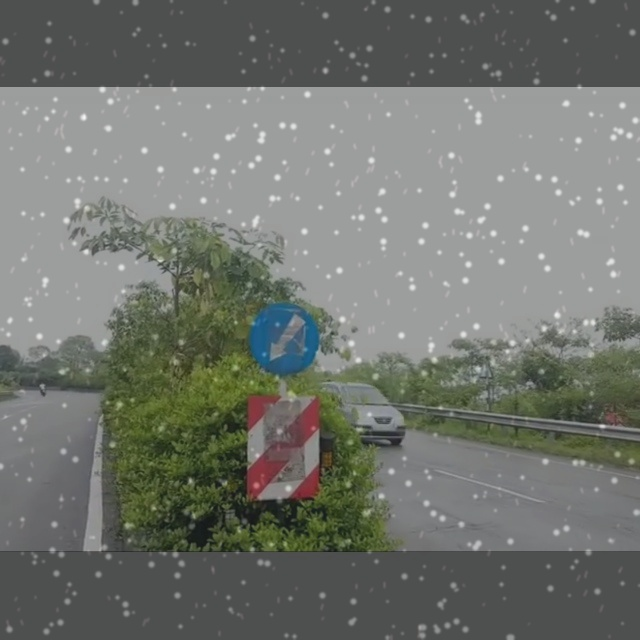Compulsory_Keep_Left: (243, 296, 328, 380)
